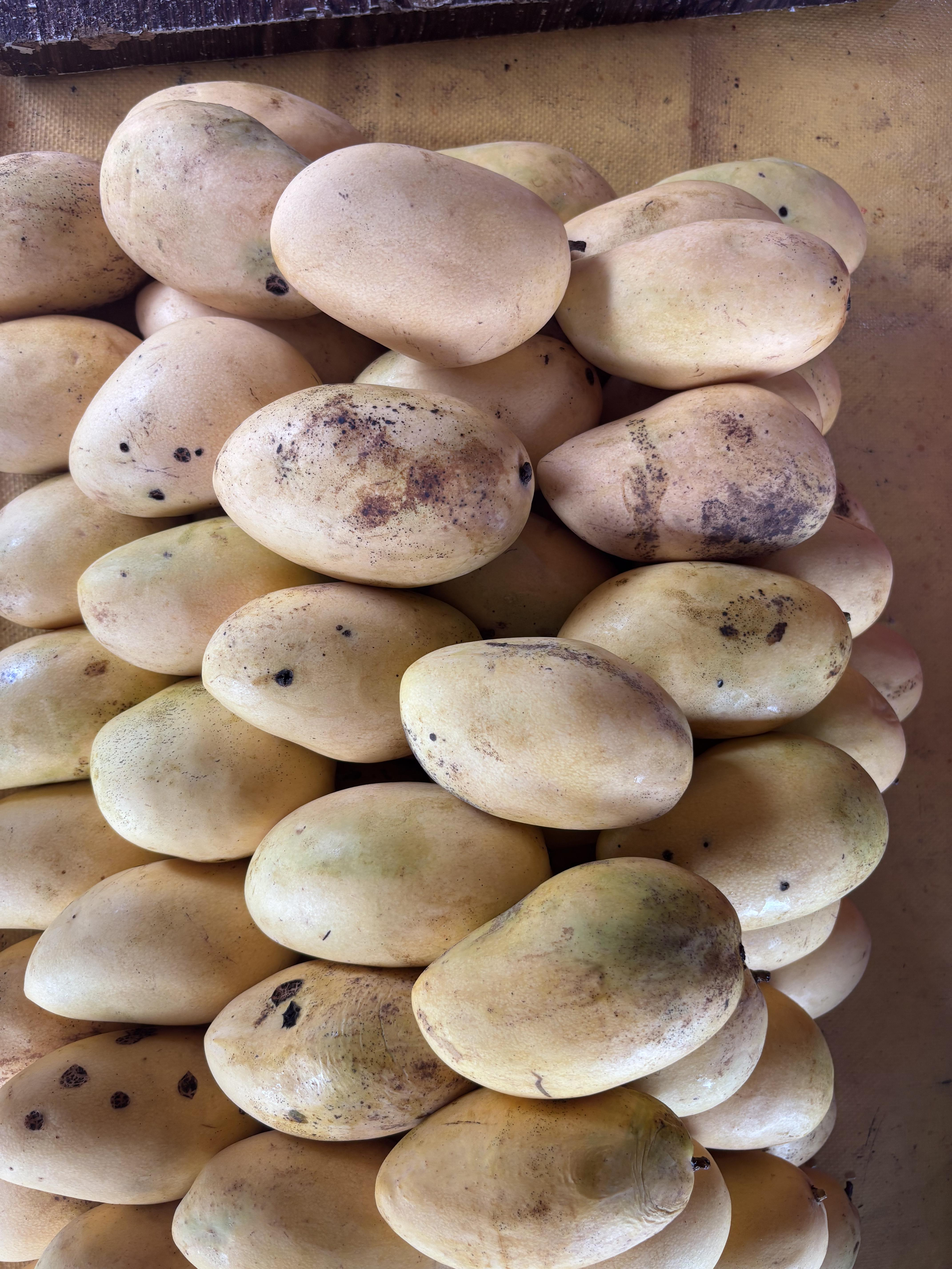mango: (412, 858, 745, 1100), (271, 143, 570, 368), (213, 383, 534, 587), (400, 637, 692, 830), (536, 383, 836, 564)
occluded: (596, 733, 888, 931), (376, 1087, 693, 1269), (245, 782, 550, 966), (560, 561, 851, 739), (70, 316, 321, 517), (69, 317, 321, 517), (556, 219, 850, 389), (203, 581, 478, 762), (204, 960, 474, 1141), (100, 100, 316, 319), (0, 1026, 261, 1204), (25, 859, 297, 1025), (90, 678, 335, 862), (78, 516, 327, 676), (172, 1131, 440, 1269), (354, 333, 602, 468), (0, 625, 176, 788), (0, 474, 179, 629), (686, 985, 834, 1150), (0, 152, 145, 320), (425, 513, 616, 639), (0, 781, 153, 929), (0, 315, 141, 474), (676, 158, 866, 273), (626, 968, 767, 1117), (0, 931, 121, 1085), (589, 1142, 731, 1269), (753, 513, 893, 639), (565, 179, 782, 259), (777, 665, 906, 792), (438, 141, 615, 222), (714, 1151, 827, 1269), (771, 898, 871, 1018), (36, 1202, 194, 1269), (243, 312, 379, 382), (0, 1178, 98, 1262), (850, 623, 923, 721), (743, 900, 840, 972), (802, 1168, 861, 1269), (135, 281, 232, 338), (767, 1095, 836, 1166), (750, 371, 822, 431), (795, 351, 841, 434), (0, 472, 47, 508), (0, 617, 46, 649)
